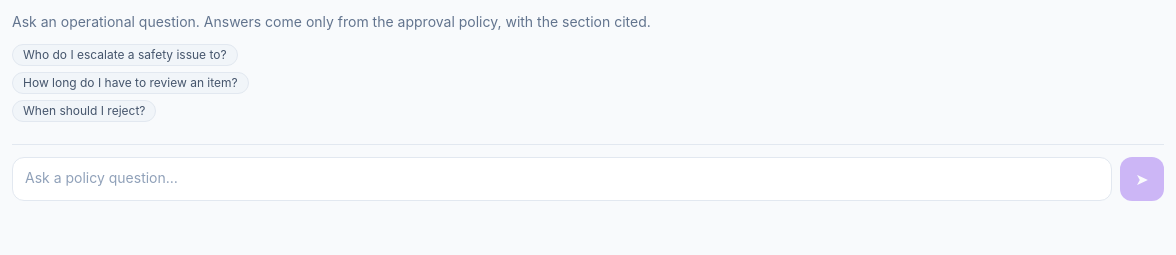
Test: <ChatView /> › labels deterministic fallback answers so the operator knows AI was unavailable
In the text box named "message": (562, 179) [12,157,1112,201], type "How do I reject?"
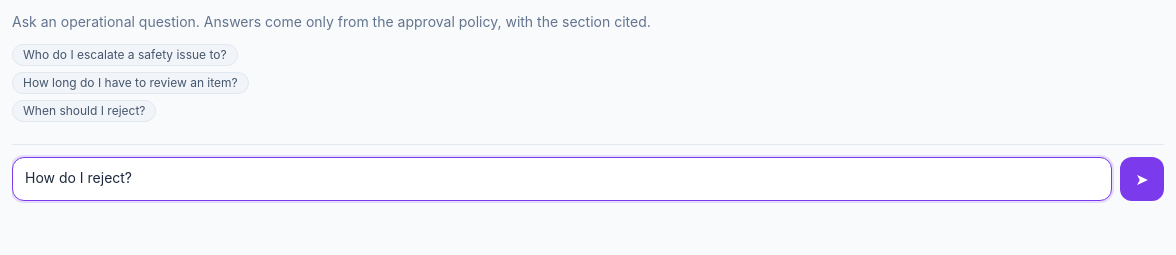
Click the button named "send": (1142, 179) [1120,157,1164,201]
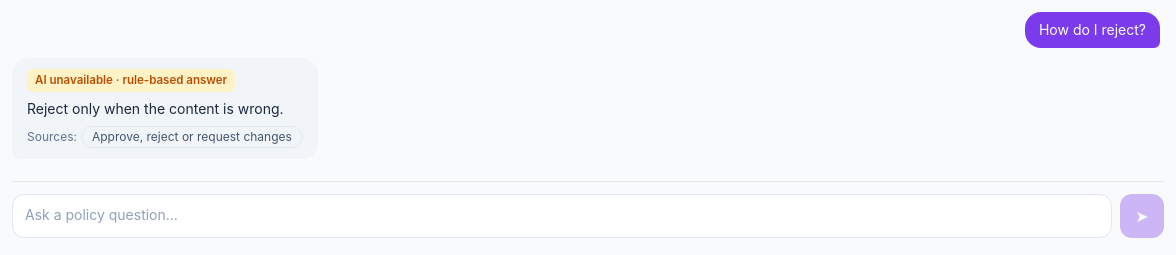
Result: the text "AI unavailable · rule-based answer" is shown at [27,69,235,92]
Result: the text "Approve, reject or request changes" is shown at [81,126,303,148]
